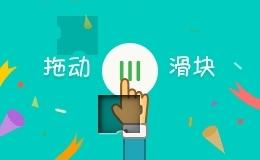target: (76, 76, 118, 114)
